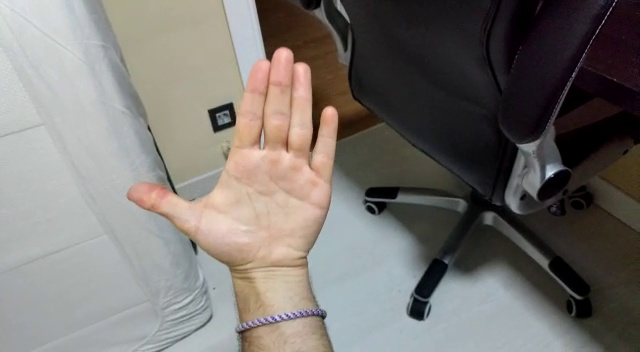Palm: (129, 44, 347, 287)
